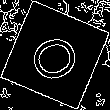O_E: (23, 25, 87, 85)
